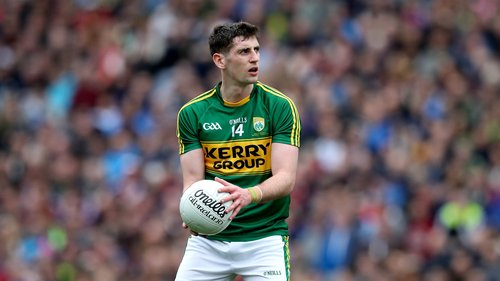ball: (183, 176, 233, 236)
player: (176, 24, 302, 280)
